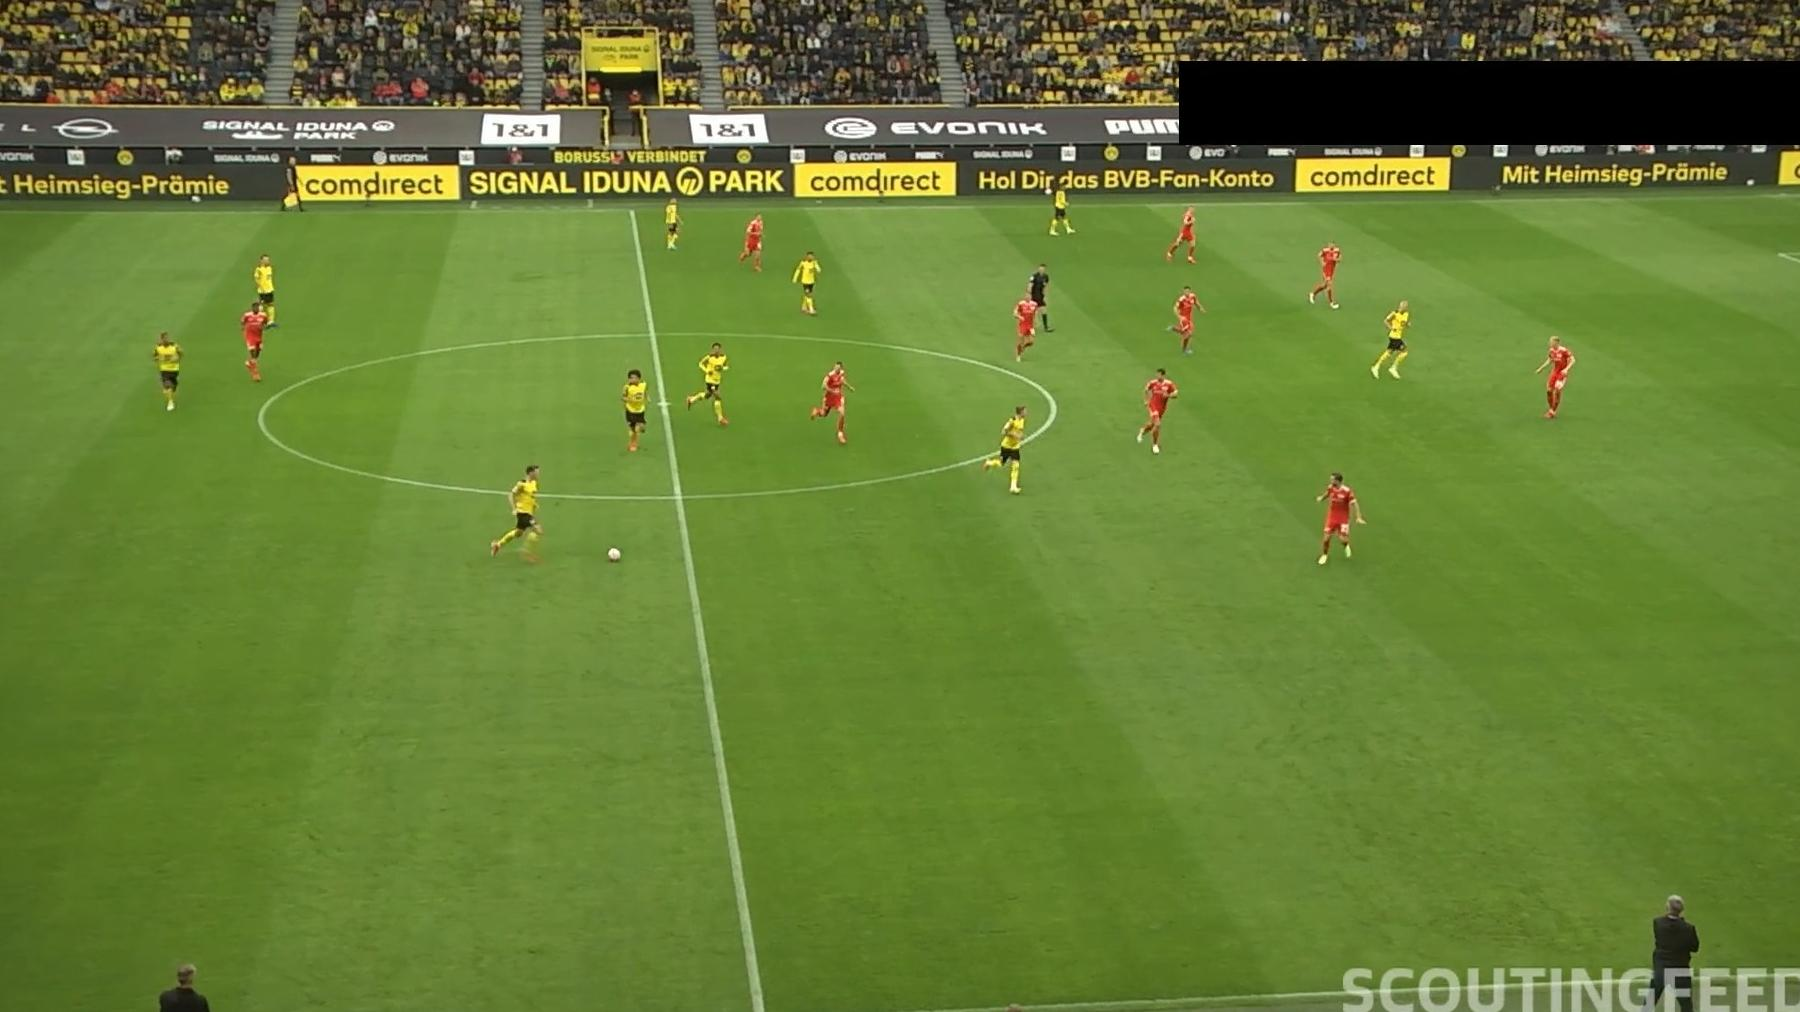ball: (605, 546, 622, 563)
